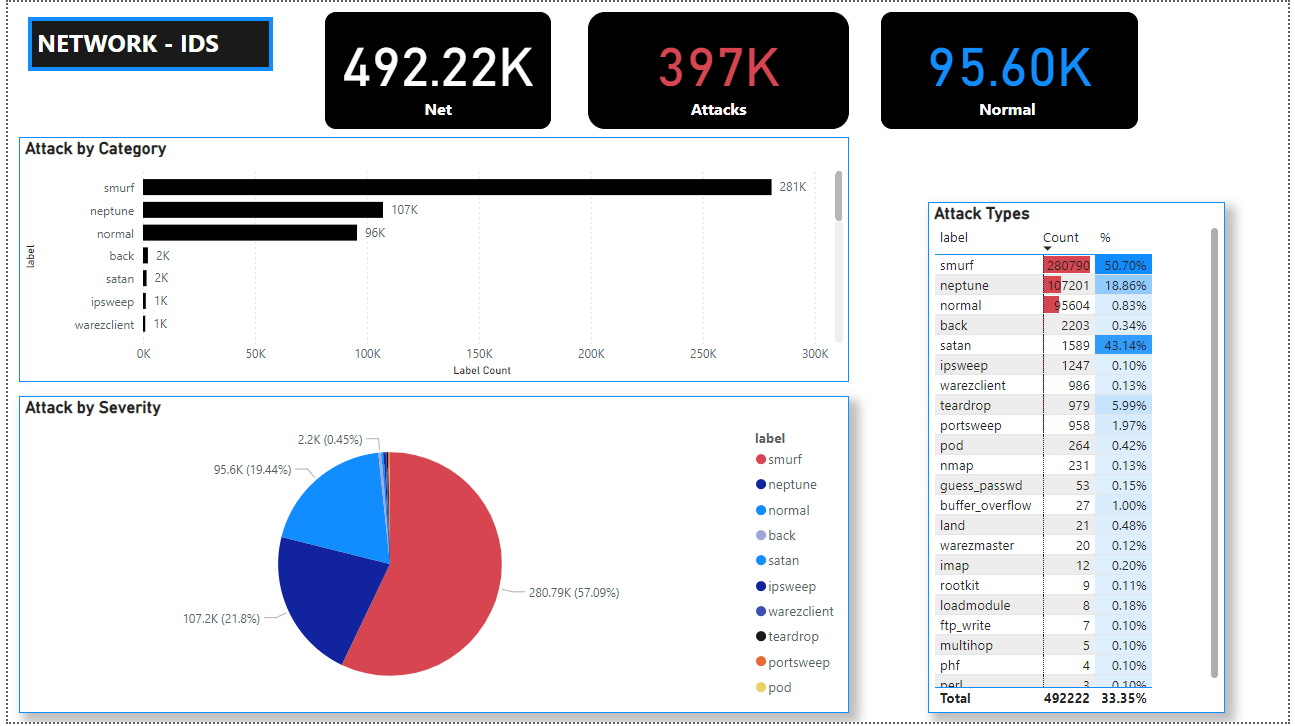

This screenshot's page, from the dashboard's own definition file:
{"tool":"powerbi","page":{"name":"IDS-Dashboard","canvas":[1280,720],"ordinal":0},"visuals":[{"type":"tableEx","title":"Attack Types","fields":{"Values":["kddcup99_csv.label","CountNonNull(kddcup99_csv.label)","kddcup99_csv.Label Perc"]},"box":[920,200,297,511],"z":0},{"type":"clusteredBarChart","title":"Attack by Category","fields":{"Category":["kddcup99_csv.label"],"Y":["kddcup99_csv.Label Count"]},"box":[11,135,830,245],"z":1000},{"type":"card","fields":{"Values":["CountNonNull(kddcup99_csv.count)"]},"box":[317,10,226,117],"z":2000},{"type":"card","fields":{"Values":["CountNonNull(kddcup99_csv.label)"]},"box":[873,10,257,117],"z":3000},{"type":"card","fields":{"Values":["kddcup99_csv.TotalActualAttacks"]},"box":[580,10,261,117],"z":4000},{"type":"textbox","box":[20,15,245,54],"z":5000},{"type":"pieChart","title":"Attack by Severity","fields":{"Category":["kddcup99_csv.label"],"Y":["CountNonNull(kddcup99_csv.label)"]},"box":[11,394,830,317],"z":6000}]}

Visuals, with their boxes in screenshot pixels (x1, y1, x2, y2), scaled from the page's 1280x720 canvas onto the 1295x726 screenshot:
"Attack Types" tableEx: [x1=931, y1=202, x2=1231, y2=717]
"Attack by Category" clusteredBarChart: [x1=11, y1=136, x2=851, y2=383]
card - CountNonNull(kddcup99_csv.count): [x1=321, y1=10, x2=549, y2=128]
card - CountNonNull(kddcup99_csv.label): [x1=883, y1=10, x2=1143, y2=128]
card - kddcup99_csv.TotalActualAttacks: [x1=587, y1=10, x2=851, y2=128]
textbox: [x1=20, y1=15, x2=268, y2=70]
"Attack by Severity" pieChart: [x1=11, y1=397, x2=851, y2=717]
